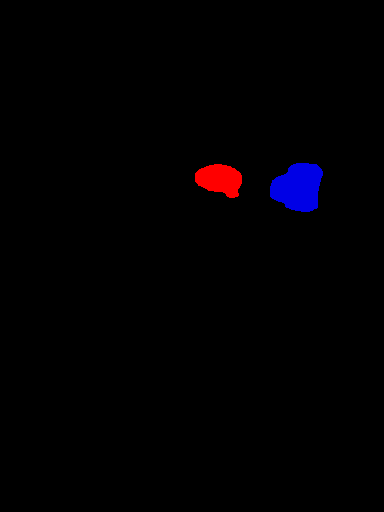cup: (269, 162, 322, 211)
speaker: (194, 163, 244, 200)
